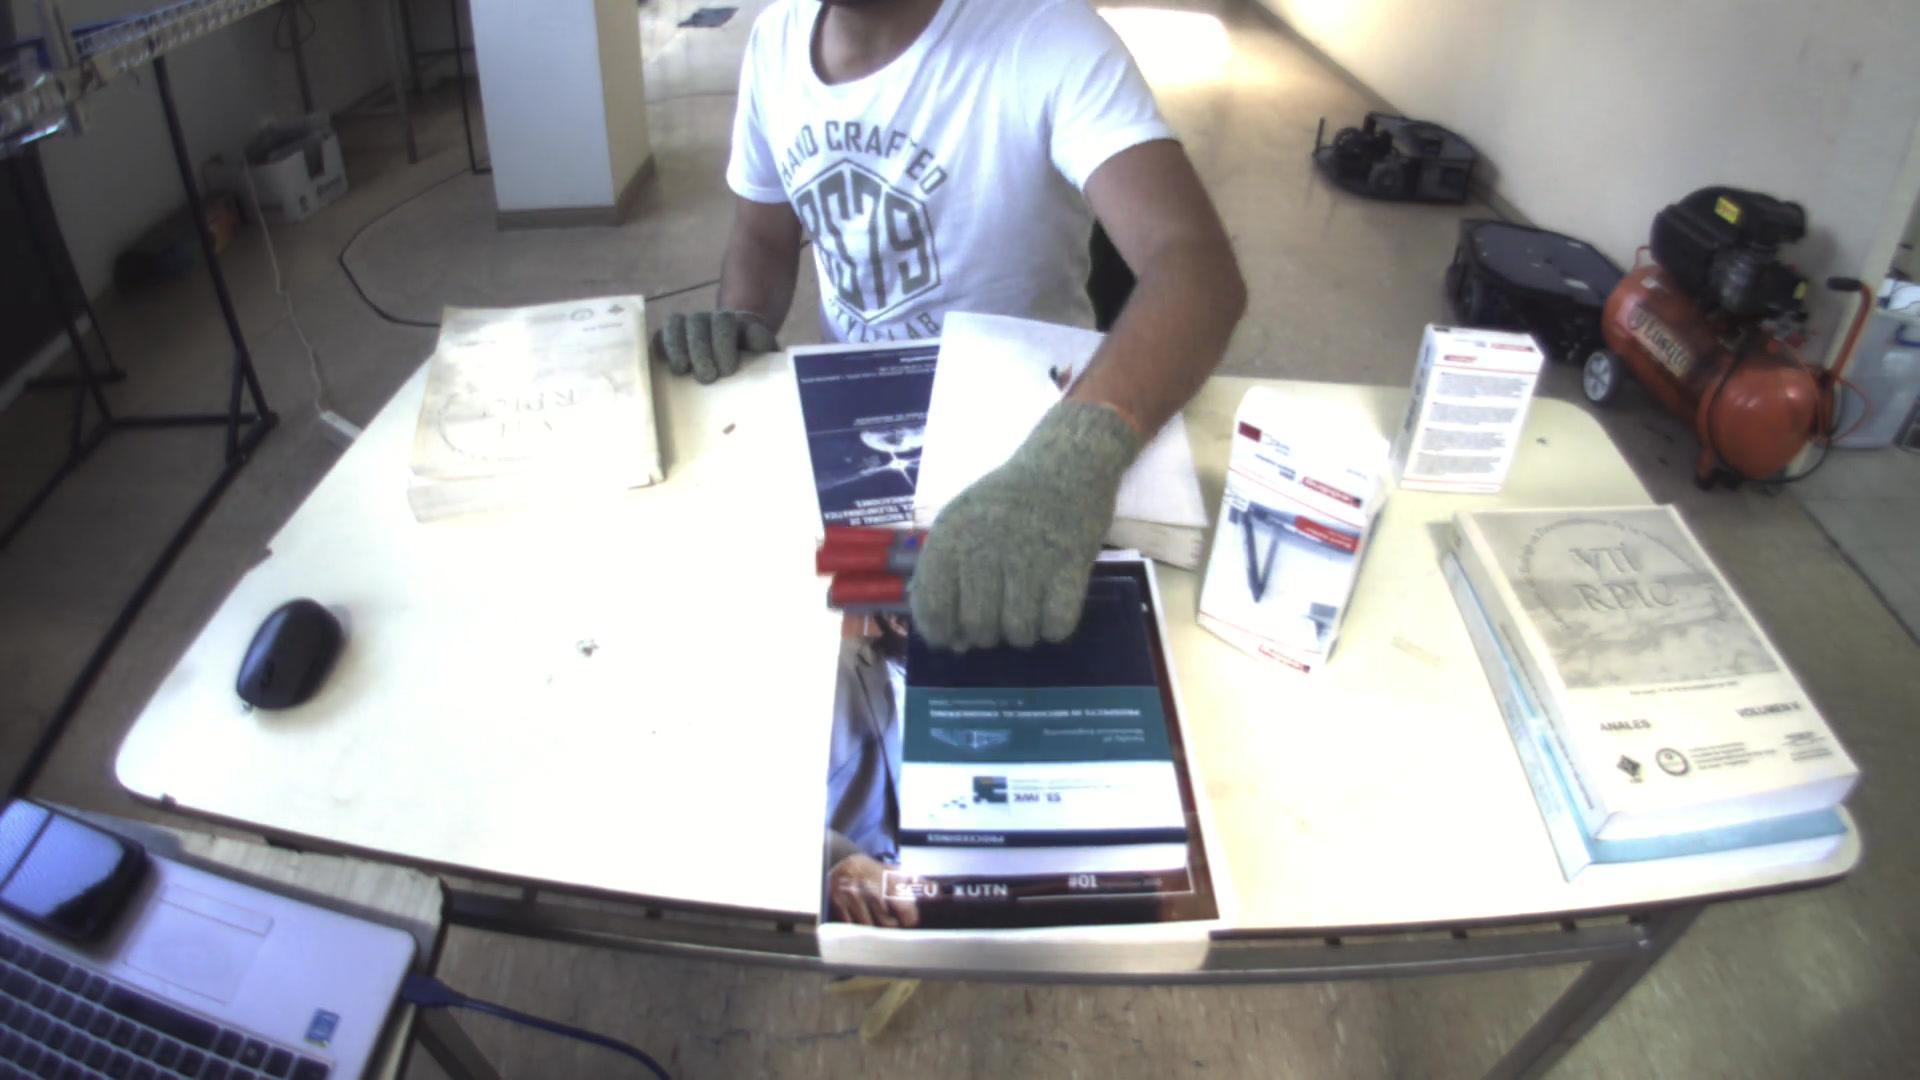hand: (909, 402, 1145, 665), (646, 298, 789, 385)
